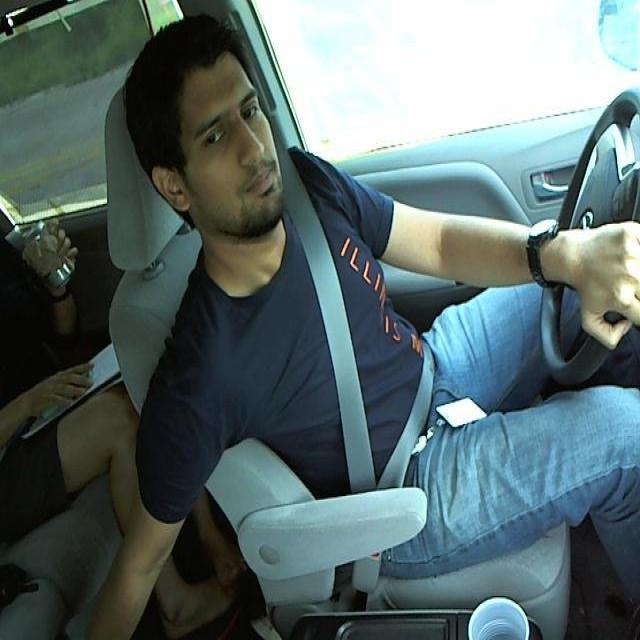seatbelt: (291, 201, 445, 487)
